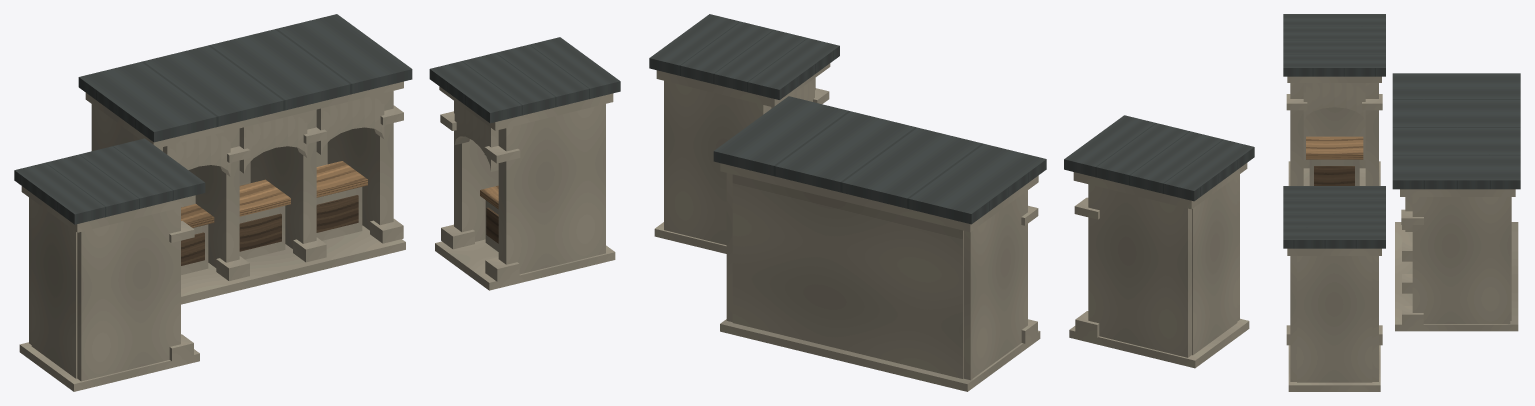
File: kaduna.glb
3 views of the same model, side by side, from view 1: azimuth 30°, elevation 25°; view 2: azimuth 150°, elevation 25°; view 3: azimuth 270°, elevation 25° (orthographic). The views are drawn at different scales.
Parts seen in each view (by area): view 1: kaduna; view 2: kaduna; view 3: kaduna.
Part boxes in pixels (x1,y1,x2,y2): kaduna: (14,14,620,391); kaduna: (649,14,1254,391); kaduna: (1283,14,1520,391).
Bounding box in the file's own units: 7.4 × 2.34 × 3.28.
1 material, 1 textured.
